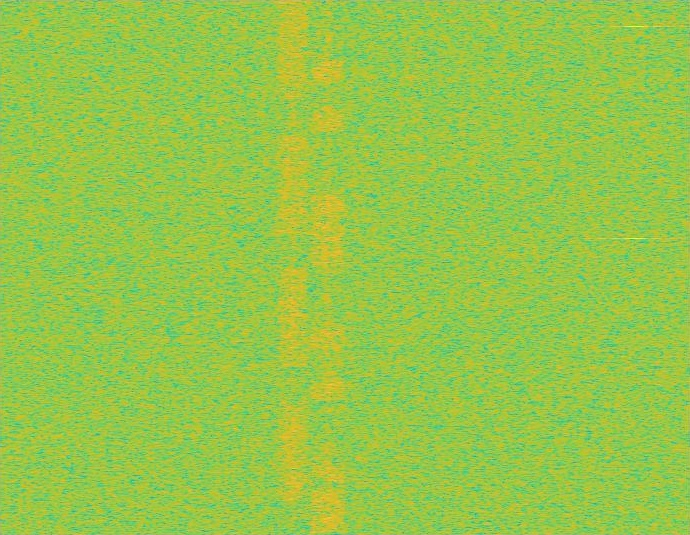5G: (276, 0, 311, 534)
DSSS: (291, 0, 296, 534), (325, 0, 330, 534)
LTE: (311, 0, 345, 534)
Radar: (629, 0, 643, 534)
